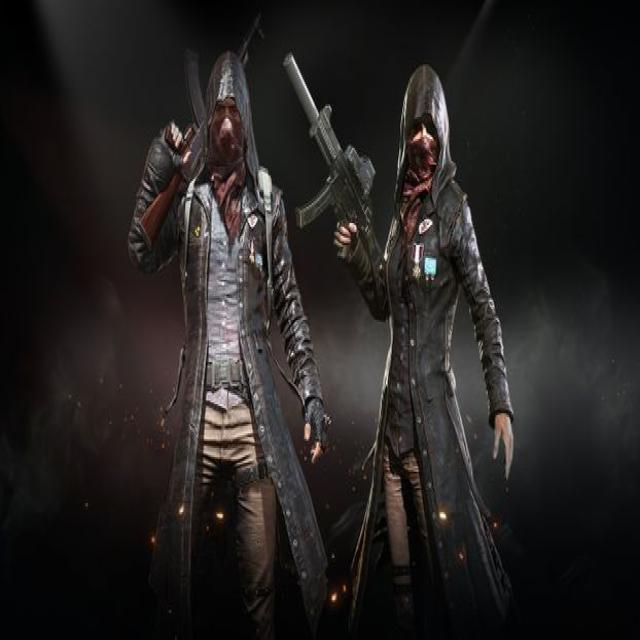firearm: (139, 14, 265, 246), (285, 54, 380, 259)
